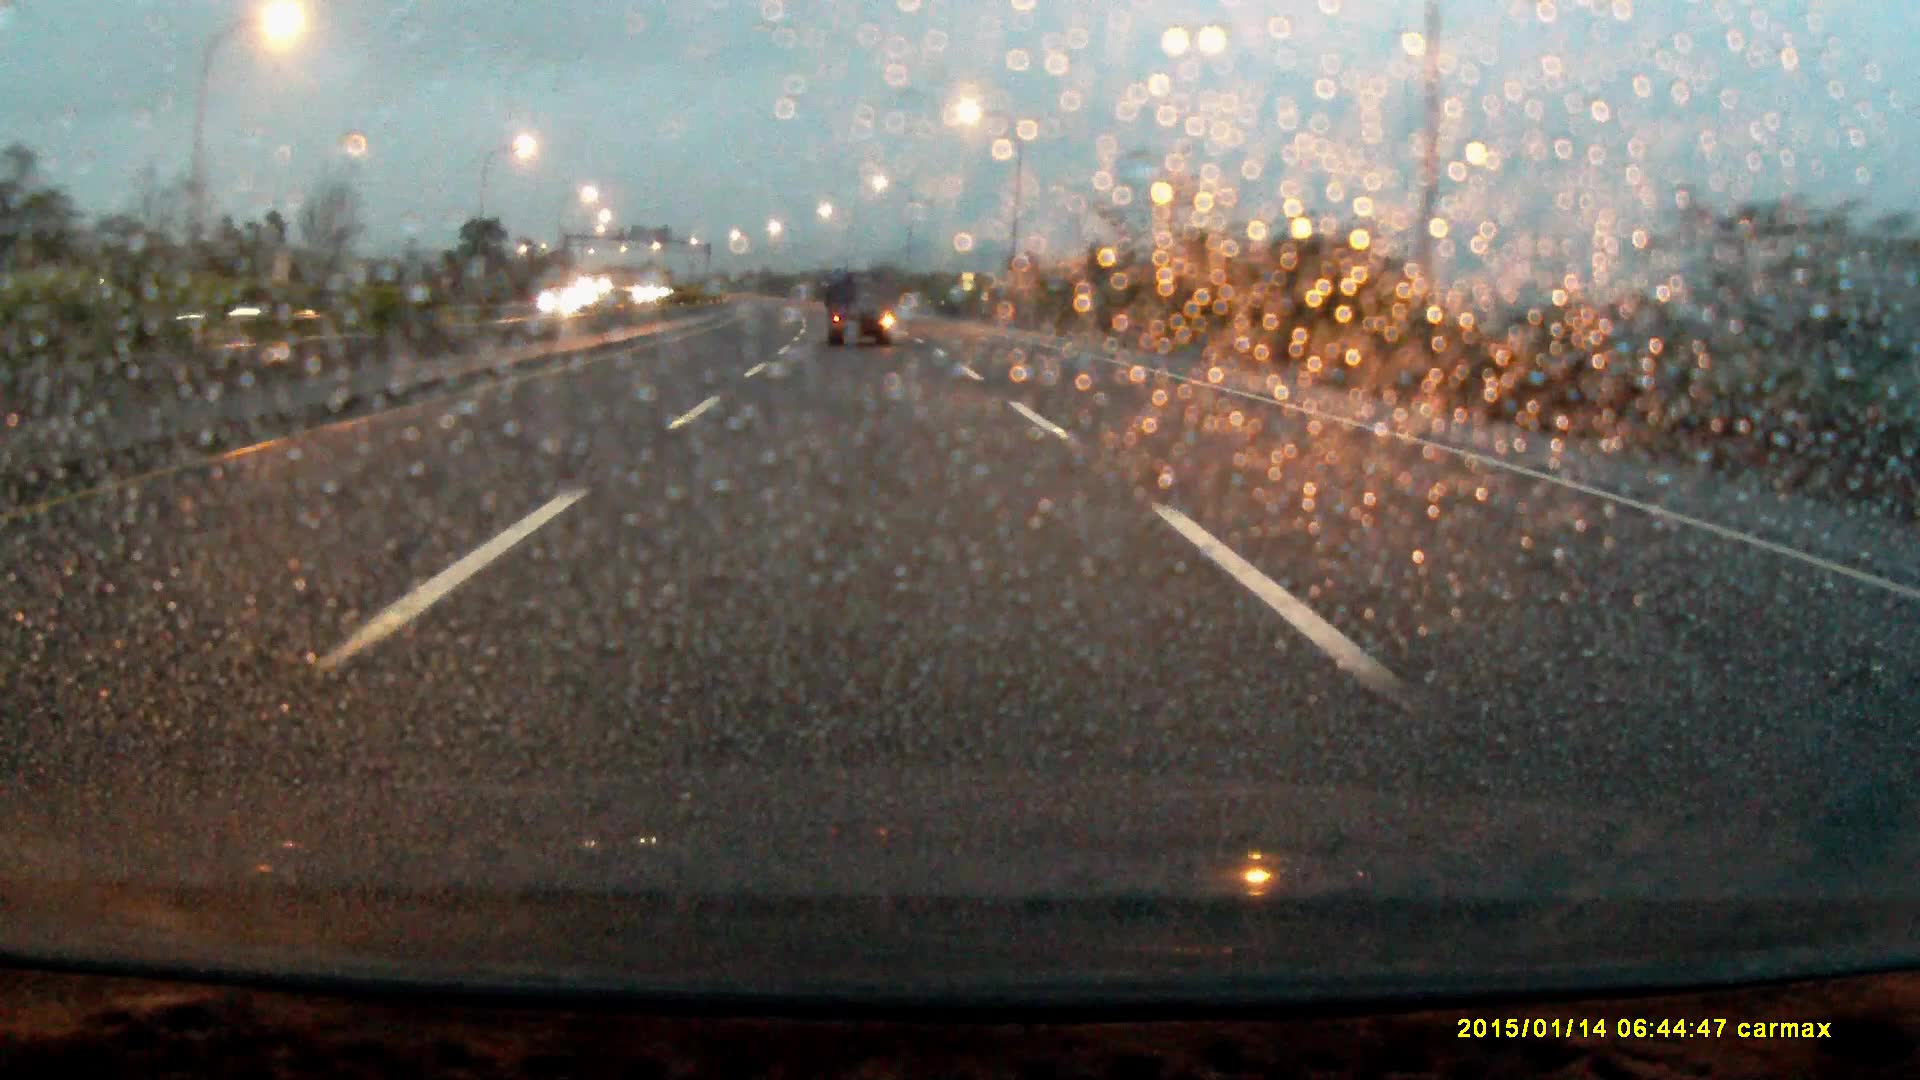vehicle: (827, 277, 897, 351), (539, 287, 600, 316)
